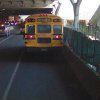Bus: (19, 10, 66, 54)
